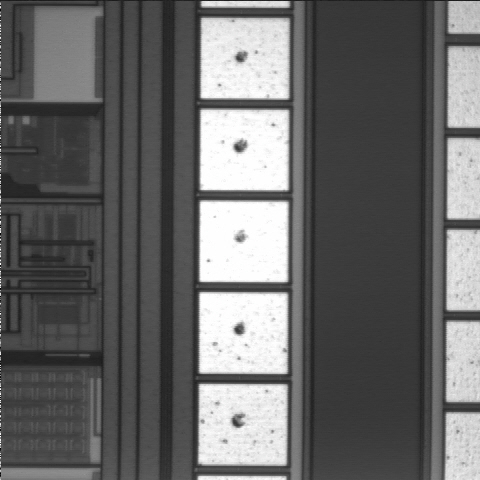pad: (200, 109, 289, 191), (199, 200, 288, 282), (199, 292, 288, 374), (198, 384, 287, 466), (201, 18, 289, 99)
